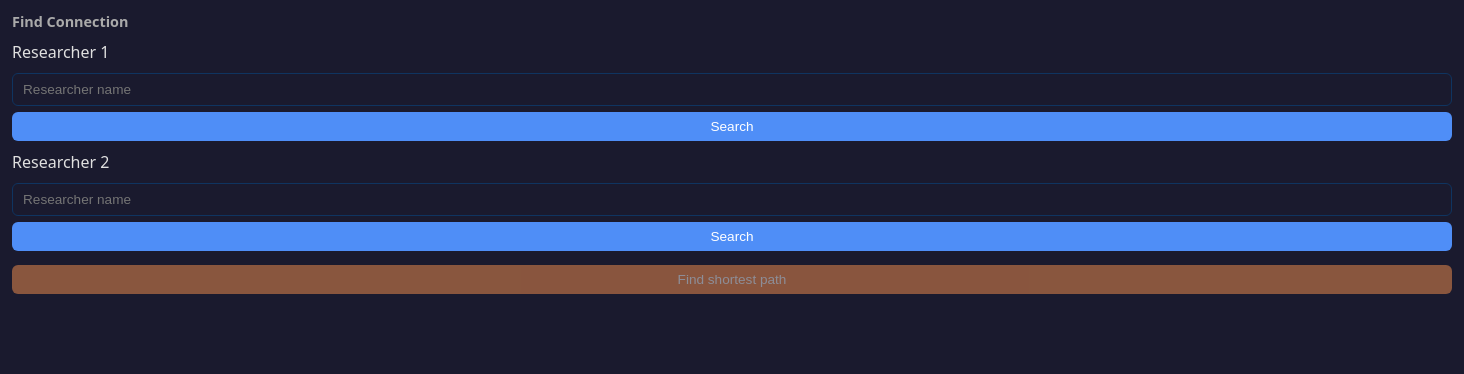
Test case: PathFinder › shows degree count when path is found
This screenshot has width=1464, height=374.
Type "Alice" into the 1st field with placeholder "Researcher name" at point(732, 90), box [12, 73, 1452, 106]
Click the 1st button "Search" at point(732, 126), box [12, 112, 1452, 141]
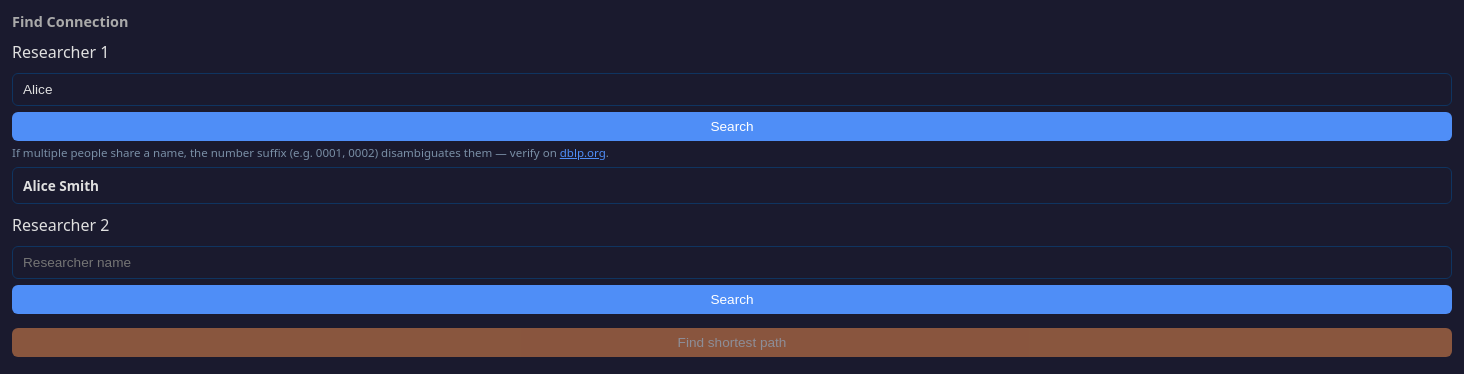
Click the text "Alice Smith" at point(61, 186), box [23, 176, 99, 195]
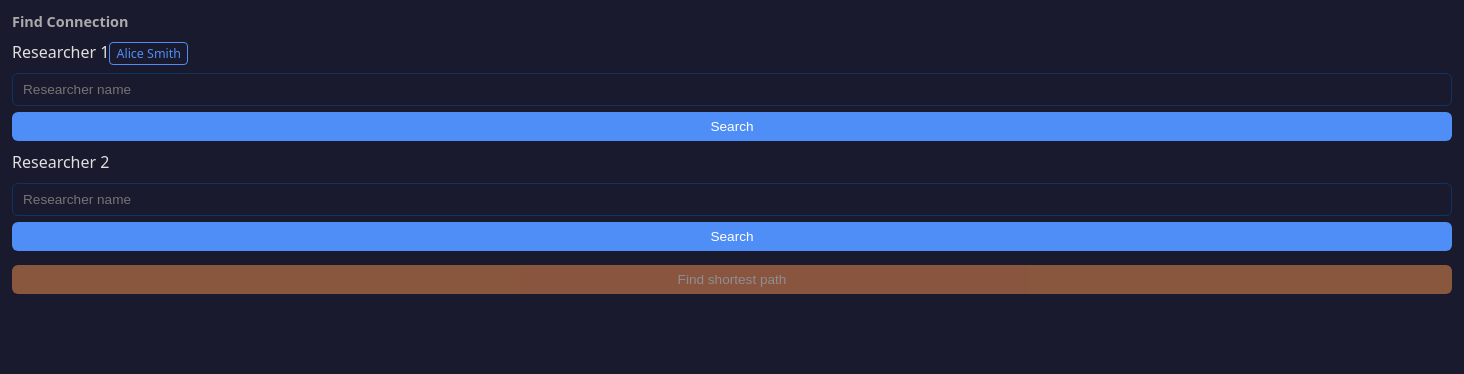
Type "Bob" into the 2nd field with placeholder "Researcher name" at point(732, 200), box [12, 183, 1452, 216]
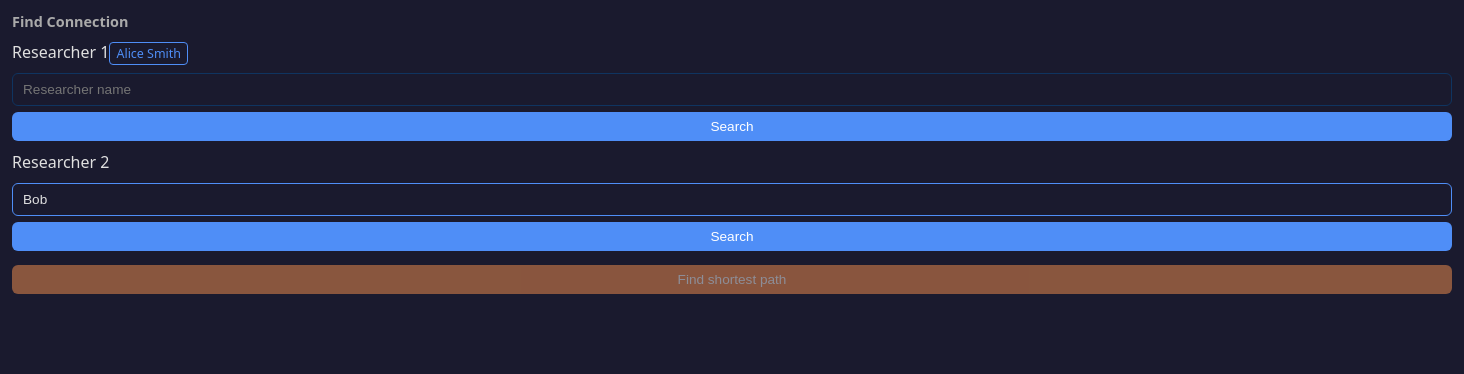
Click the 2nd button "Search" at point(732, 236), box [12, 222, 1452, 251]
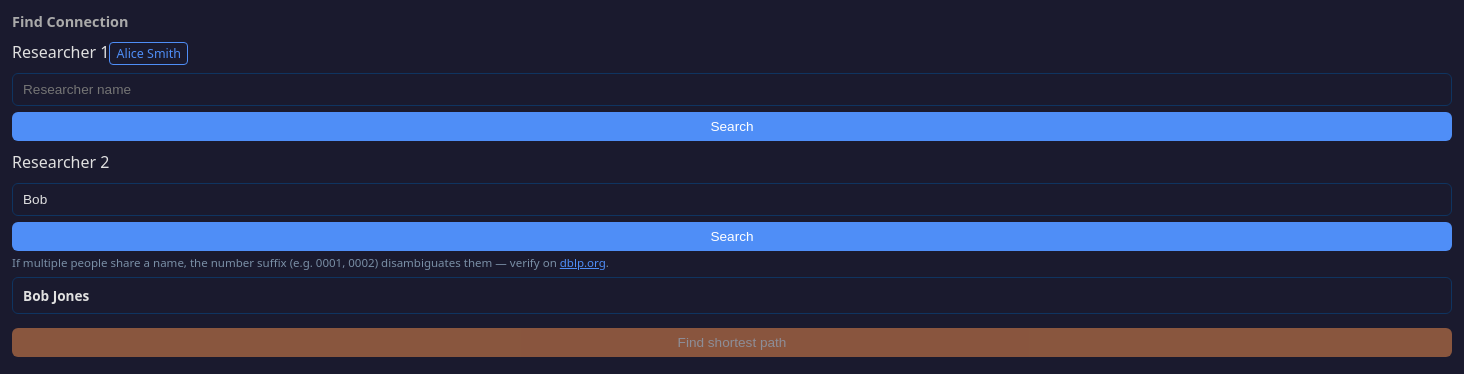
Click the text "Bob Jones" at point(56, 296), box [23, 286, 89, 305]
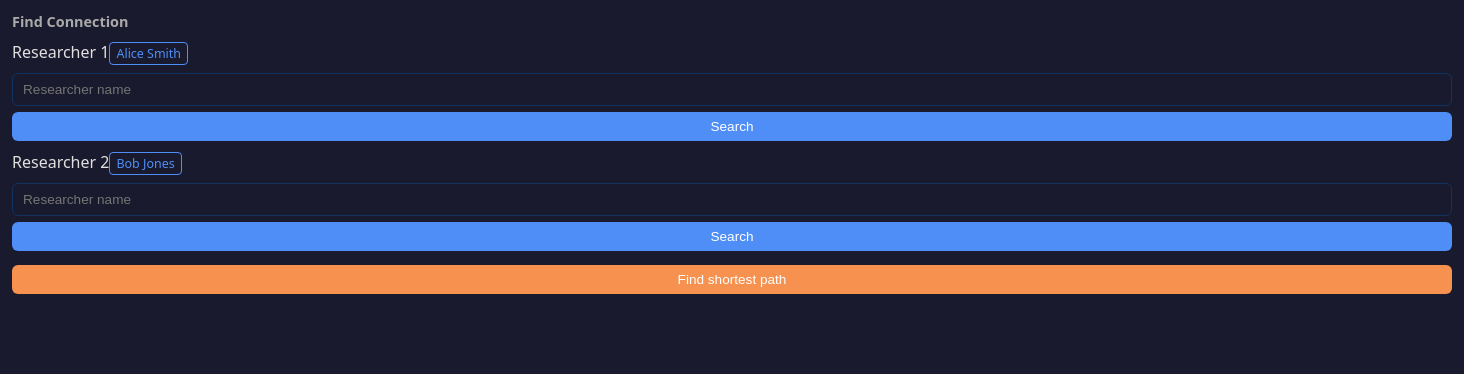
Click the button "Find shortest path" at point(732, 280), box [12, 265, 1452, 294]
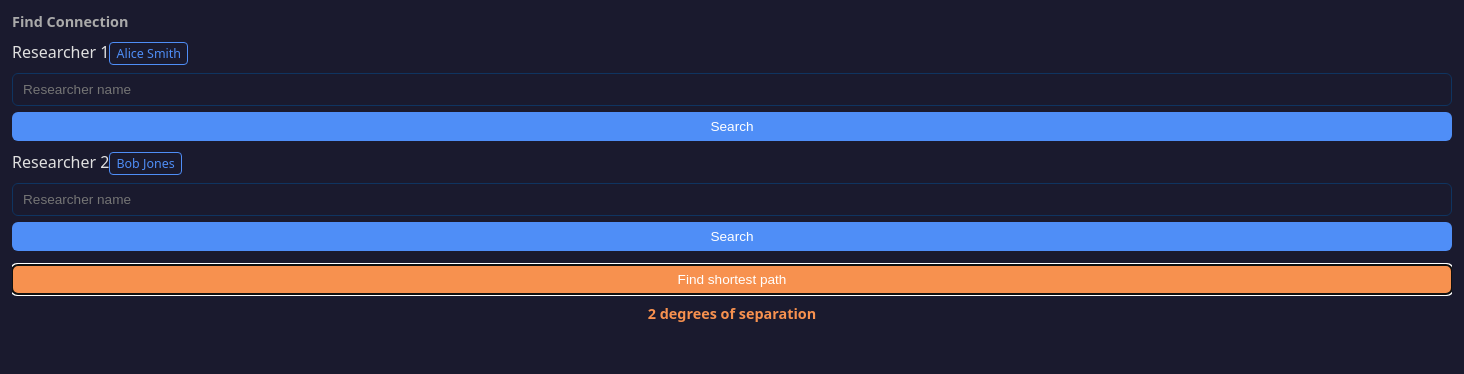
Result: the text "2 degrees of separation" is shown at [648, 304, 816, 323]
